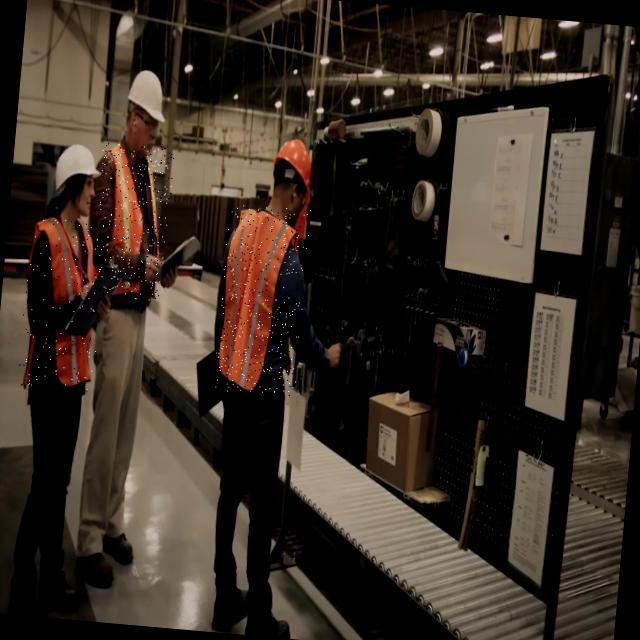helmet: (123, 65, 174, 136), (49, 141, 105, 205), (273, 135, 322, 201)
vest: (213, 203, 311, 397), (16, 216, 107, 394), (89, 142, 175, 301)
